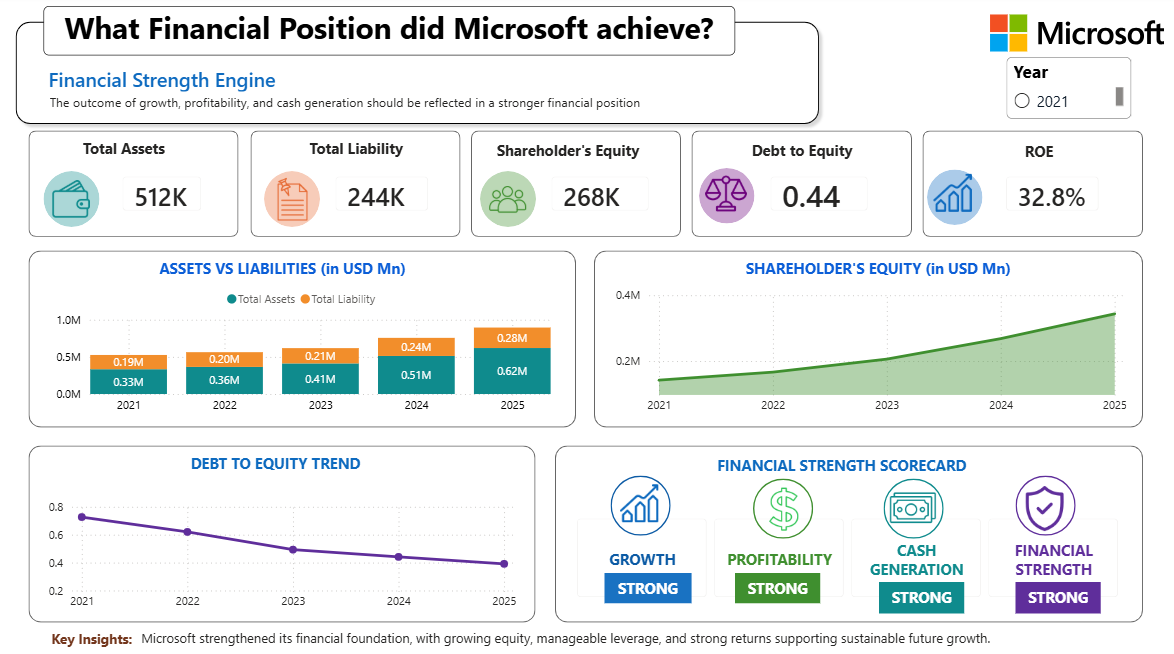

What the dashboard file says about the page in this screenshot:
{"tool":"powerbi","page":{"name":"Financial Strength Engine","canvas":[1280,720],"ordinal":4},"visuals":[{"type":"group","id":"g1","title":"Group 8","box":[20,13.5,881.7,134.8],"z":0},{"type":"shape","box":[20,23.3,881.7,125],"z":0,"group":"g1"},{"type":"textbox","box":[57.2,13.5,746.5,53.4],"z":1000,"group":"g1"},{"type":"image","box":[1079,20,188,45],"z":1000},{"type":"listSlicer","fields":{"Values":["Income Statement.Year"]},"box":[1096.2,68,134.4,66.4],"z":2000},{"type":"textbox","box":[58.9,103.4,672,35.6],"z":2500,"group":"g1"},{"type":"shape","box":[40.5,147.3,226.7,115],"z":3000},{"type":"textbox","box":[57.2,72.6,255.8,38.9],"z":4000,"group":"g1"},{"type":"shape","box":[280.1,147.3,226.7,115],"z":4000},{"type":"shape","box":[518.2,147.3,226.7,115],"z":5000},{"type":"shape","box":[756.2,147.3,238,115],"z":6000},{"type":"shape","box":[56.7,191.1,60.5,60.5],"z":6250,"group":"g2"},{"type":"shape","box":[294.7,191.1,60.5,60.5],"z":6250,"group":"g3"},{"type":"shape","box":[527.9,191.1,60.5,60.5],"z":6250,"group":"g4"},{"type":"shape","box":[668.7,519.8,65,65],"z":6250,"group":"g5"},{"type":"shape","box":[1105.4,519.8,65,65],"z":6250,"group":"g8"},{"type":"shape","box":[822.6,523,65,65],"z":6250,"group":"g6"},{"type":"shape","box":[963.4,523,65,65],"z":6250,"group":"g7"},{"type":"textbox","box":[93.9,150.6,108.5,35.6],"z":7000},{"type":"shape","box":[1005.5,147.3,238,115],"z":8000},{"type":"textbox","box":[338.4,150.6,113.3,34],"z":9000},{"type":"textbox","box":[540.8,152.2,170,32.4],"z":10000},{"type":"textbox","box":[816.1,152.2,131.2,37.2],"z":11000},{"type":"textbox","box":[1110.8,153.8,61.5,34],"z":12000},{"type":"group","id":"g2","title":"Group 1","box":[56.7,191.1,59.9,59.9],"z":13000},{"type":"group","id":"g3","title":"Group 1","box":[294.7,191.1,59.9,59.9],"z":14000},{"type":"group","id":"g4","title":"Group 1","box":[527.9,191.1,59.9,59.9],"z":15000},{"type":"shape","box":[764.3,187.8,59.9,59.9],"z":16000},{"type":"shape","box":[1010,189.4,59.9,59.9],"z":17000},{"type":"image","box":[301.2,195.9,48.6,51.8],"z":18000},{"type":"image","box":[61.5,200.8,50.2,40.5],"z":19000},{"type":"image","box":[531.1,207.3,53.4,40.5],"z":20000},{"type":"image","box":[770.8,192.7,45.3,45.3],"z":21000},{"type":"image","box":[1010.4,184.6,55.1,59.9],"z":22000},{"type":"cardVisual","fields":{"Data":["Sum(Balance Sheet.Total Assets)"]},"box":[124.7,179.7,119.8,71.2],"z":23000},{"type":"cardVisual","fields":{"Data":["Sum(Balance Sheet.Total Liability)"]},"box":[354.6,179.7,134.4,71.2],"z":24000},{"type":"cardVisual","fields":{"Data":["Sum(Balance Sheet.Shareholder's Equity)"]},"box":[587.8,179.7,139.3,71.2],"z":25000},{"type":"cardVisual","fields":{"Data":["Balance Sheet.ROE %"]},"box":[1078.4,179.7,134.4,71.2],"z":26000},{"type":"cardVisual","fields":{"Data":["Balance Sheet.Debt to Equity"]},"box":[824.2,179.7,139.3,71.2],"z":27000},{"type":"shape","box":[40.5,276.9,591,191.1],"z":28000},{"type":"shape","box":[650.9,276.9,592.6,191.1],"z":29000},{"type":"shape","box":[40.5,487.4,547.3,191.1],"z":30000},{"type":"shape","box":[608.8,487.4,634.7,191.1],"z":31000},{"type":"columnChart","fields":{"Category":["Balance Sheet.Year"],"Y":["Sum(Balance Sheet.Total Assets)","Sum(Balance Sheet.Total Liability)"]},"box":[64.8,310,544.1,152.2],"z":32000},{"type":"textbox","box":[176.5,280,299.6,34],"z":33000},{"type":"areaChart","fields":{"Category":["Balance Sheet.Year"],"Y":["Sum(Balance Sheet.Shareholder's Equity)"]},"box":[668.7,310.9,561.9,150.6],"z":34000},{"type":"textbox","box":[809.6,280.1,306,34],"z":35000},{"type":"lineChart","fields":{"Category":["Balance Sheet.Year"],"Y":["Balance Sheet.Debt to Equity"]},"box":[56.7,539.2,514.9,134.4],"z":36000},{"type":"textbox","box":[210.5,490,208.9,35.6],"z":37000},{"type":"cardVisual","fields":{"Data":["Income Statement.Revenue Growth %","Balance Sheet.ROE %","Cash Flow Statement.FCF Margin %","Balance Sheet.Debt to Equity"]},"box":[615.3,548.9,621.8,119.8],"z":38000},{"type":"textbox","box":[778.8,492.2,299.6,34],"z":39000},{"type":"group","id":"g5","title":"Group 1","box":[668.7,519.8,64.8,64.8],"z":40000},{"type":"group","id":"g6","title":"Group 1","box":[822.6,523,65,65],"z":41000},{"type":"group","id":"g7","title":"Group 1","box":[963.4,523,65,65],"z":42000},{"type":"group","id":"g8","title":"Group 1","box":[1105.4,519.8,65,65],"z":43000},{"type":"image","box":[672,519.8,55.1,59.9],"z":44000},{"type":"image","box":[803.1,531.1,105.2,50.2],"z":45000},{"type":"image","box":[960.2,529.5,69.6,50.2],"z":46000},{"type":"image","box":[1112.4,531.1,50.2,48.6],"z":47000},{"type":"textbox","box":[662.3,625,93.9,32.4],"z":48000},{"type":"textbox","box":[803.1,625,92.3,32.4],"z":49000},{"type":"textbox","box":[958.6,634.7,92.3,34],"z":50000},{"type":"textbox","box":[1105.9,634.7,92.3,34],"z":51000},{"type":"textbox","box":[59.9,680,102,34],"z":52000},{"type":"textbox","box":[157.1,680,939.2,34],"z":53000}]}

Visuals, with their boxes in screenshot pixels (x1, y1, x2, y2), scaled from the page's 1280x720 canvas onto the 1174x654 screenshot:
"Group 8" group: 18 12 827 135
shape: 18 21 827 135
textbox: 52 12 737 61
image: 990 18 1162 59
listSlicer - Income Statement.Year: 1005 62 1129 122
textbox: 54 94 670 126
shape: 37 134 245 238
textbox: 52 66 287 101
shape: 257 134 465 238
shape: 475 134 683 238
shape: 694 134 912 238
shape: 52 174 107 229
shape: 270 174 326 229
shape: 484 174 540 229
shape: 613 472 673 531
shape: 1014 472 1073 531
shape: 754 475 814 534
shape: 884 475 943 534
textbox: 86 137 186 169
shape: 922 134 1141 238
textbox: 310 137 414 168
textbox: 496 138 652 168
textbox: 749 138 869 172
textbox: 1019 140 1075 171
"Group 1" group: 52 174 107 228
"Group 1" group: 270 174 325 228
"Group 1" group: 484 174 539 228
shape: 701 171 756 225
shape: 926 172 981 226
image: 276 178 321 225
image: 56 182 102 219
image: 487 188 536 225
image: 707 175 749 216
image: 927 168 977 222
cardVisual - Sum(Balance Sheet.Total Assets): 114 163 224 228
cardVisual - Sum(Balance Sheet.Total Liability): 325 163 449 228
cardVisual - Sum(Balance Sheet.Shareholder's Equity): 539 163 667 228
cardVisual - Balance Sheet.ROE %: 989 163 1112 228
cardVisual - Balance Sheet.Debt to Equity: 756 163 884 228
shape: 37 252 579 425
shape: 597 252 1141 425
shape: 37 443 539 616
shape: 558 443 1141 616
columnChart - Balance Sheet.Year x Sum(Balance Sheet.Total Assets): 59 282 558 420
textbox: 162 254 437 285
areaChart - Balance Sheet.Year x Sum(Balance Sheet.Shareholder's Equity): 613 282 1129 419
textbox: 743 254 1023 285
lineChart - Balance Sheet.Year x Balance Sheet.Debt to Equity: 52 490 524 612
textbox: 193 445 385 477
cardVisual - Income Statement.Revenue Growth % x Balance Sheet.ROE %: 564 499 1135 607
textbox: 714 447 989 478
"Group 1" group: 613 472 673 531
"Group 1" group: 754 475 814 534
"Group 1" group: 884 475 943 534
"Group 1" group: 1014 472 1073 531
image: 616 472 667 527
image: 737 482 833 528
image: 881 481 945 527
image: 1020 482 1066 527
textbox: 607 568 694 597
textbox: 737 568 821 597
textbox: 879 577 964 607
textbox: 1014 577 1099 607
textbox: 55 618 148 649
textbox: 144 618 1006 649
